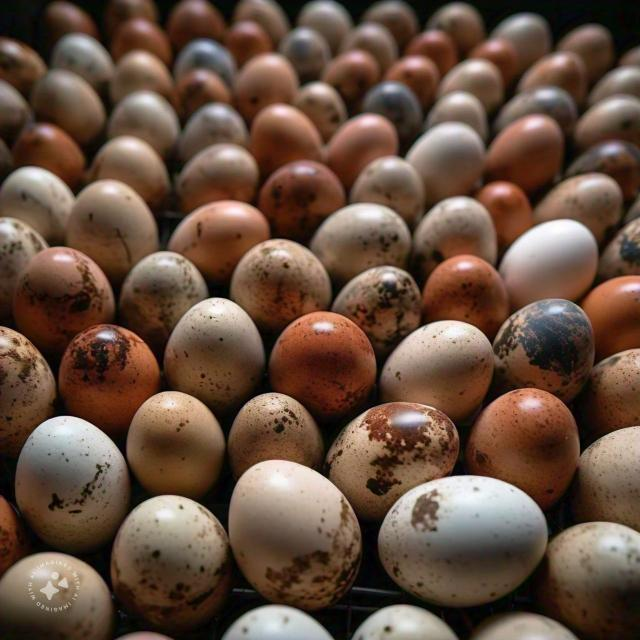Dirt Stained Egg: (485, 289, 627, 401), (323, 391, 468, 494), (155, 299, 286, 405), (20, 237, 122, 334), (373, 292, 488, 368), (53, 327, 157, 395)
